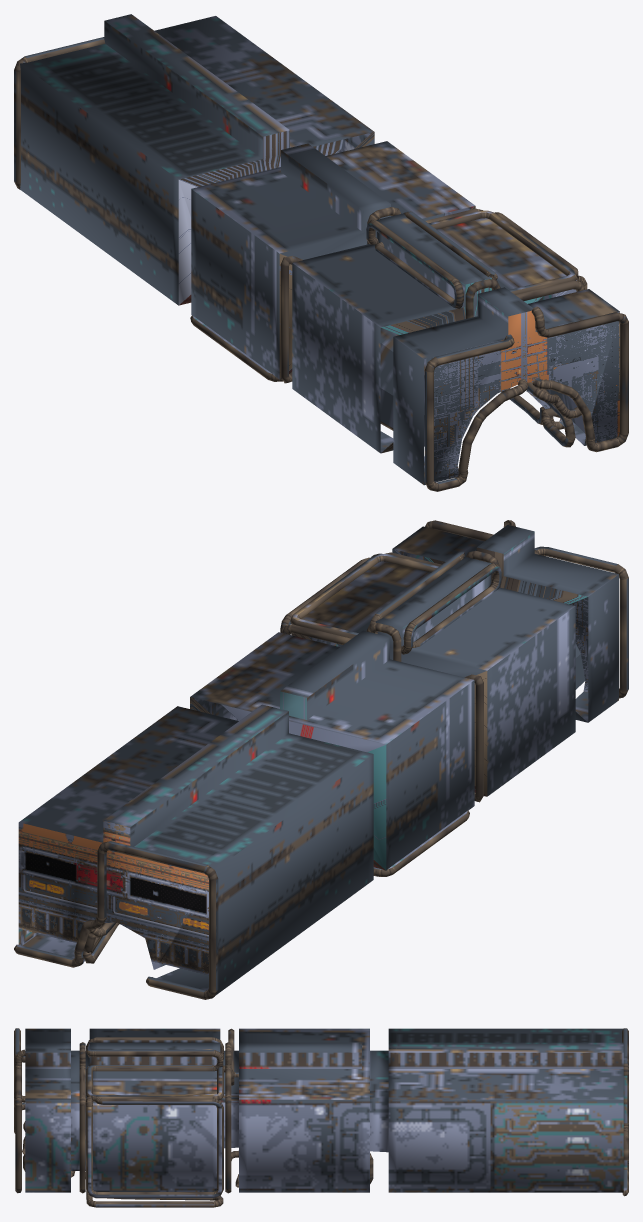
Rendered from SM_Debris_07.fbx.
3 views of the same model, one above another, from view 1: azimuth 30°, elevation 25°; view 2: azimuth 150°, elevation 25°; view 3: azimuth 270°, elevation 25° (orthographic). The views are drawn at different scales.
Visible parts, largest first — view 1: Cube.004; view 2: Cube.004; view 3: Cube.004.
Part boxes in pixels (x1,y1,x2,y2): Cube.004: [14, 14, 628, 491]; Cube.004: [14, 520, 628, 999]; Cube.004: [14, 1028, 628, 1207].
Bounding box in the file's own units: 83.27 × 65.42 × 285.
